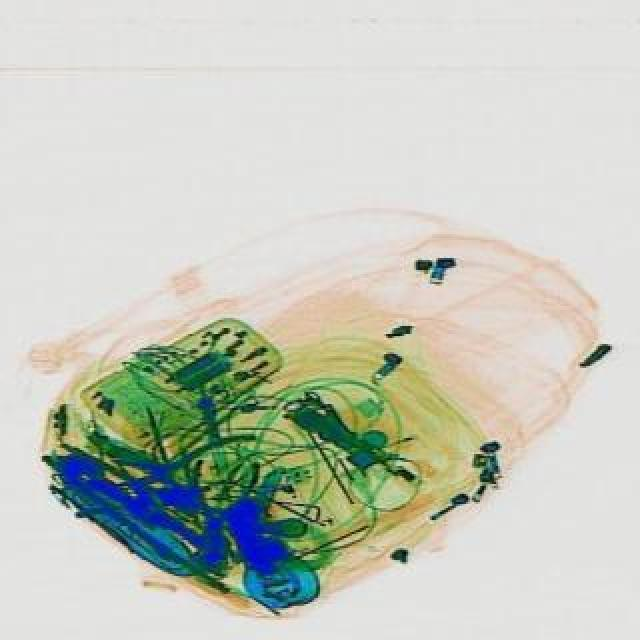wrench: (106, 432, 254, 516)
